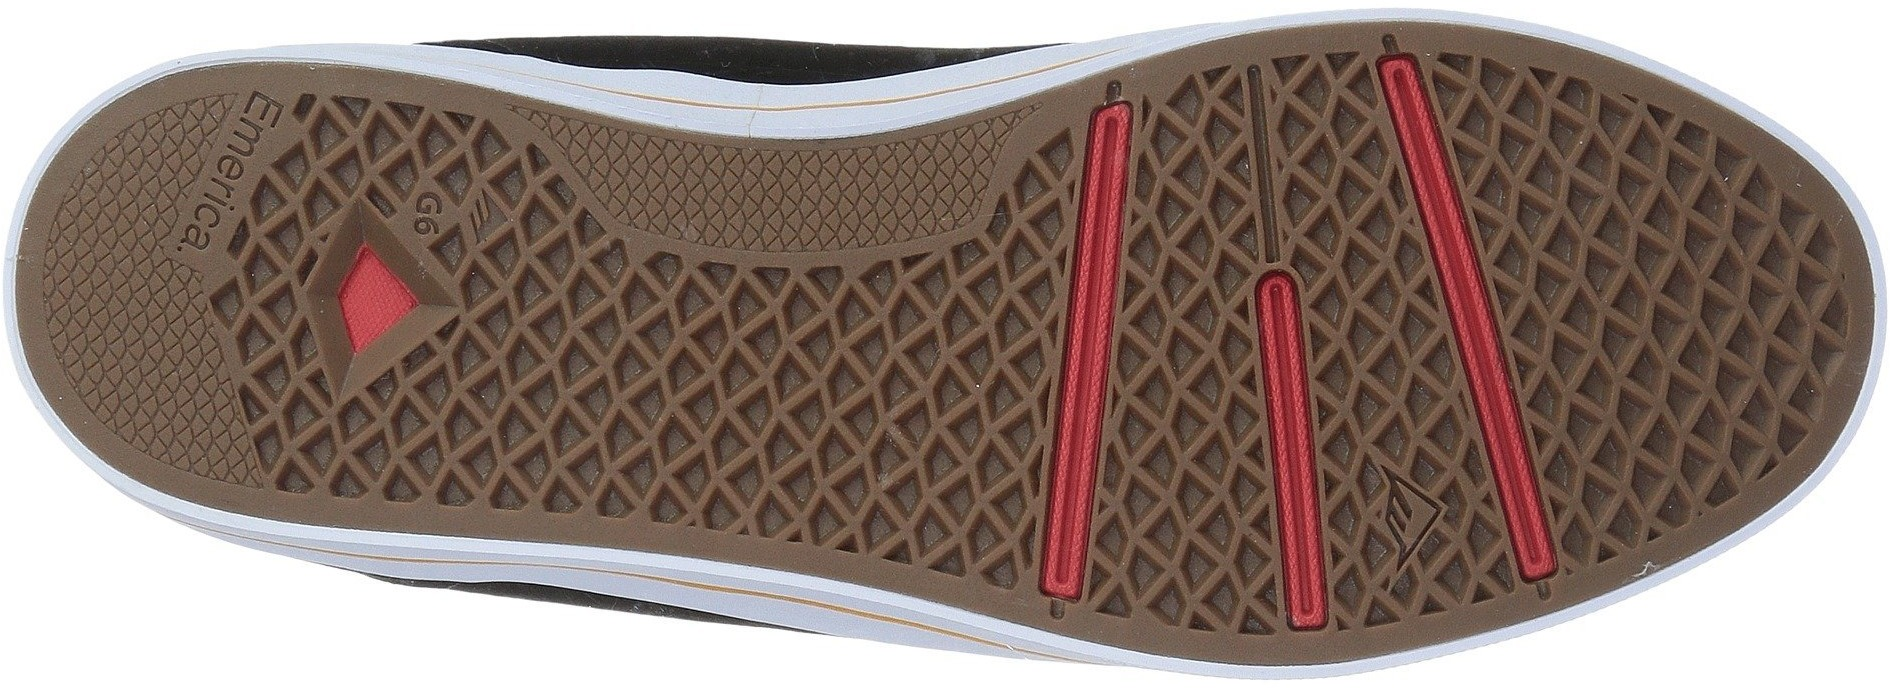line: (1010, 148, 1156, 296), (1238, 449, 1366, 578), (1039, 170, 1170, 292), (1377, 129, 1502, 245)
quad: (1518, 167, 1807, 447), (466, 255, 752, 528), (753, 265, 1027, 530), (292, 189, 471, 399), (1010, 148, 1156, 296), (65, 269, 206, 407), (1238, 449, 1366, 578), (1039, 170, 1170, 292), (1377, 129, 1502, 245), (824, 139, 931, 240), (632, 139, 726, 235)
text: (292, 189, 471, 399), (160, 165, 257, 257), (216, 80, 297, 158), (398, 186, 458, 245)
triangle: (292, 189, 471, 399), (1010, 148, 1156, 296), (1238, 449, 1366, 578), (1377, 129, 1502, 245)
